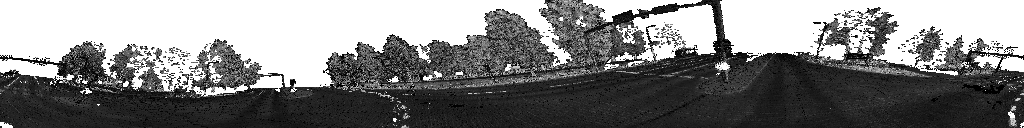gantry_sign_pole: (602, 0, 730, 67), (0, 55, 66, 83), (961, 47, 1023, 70), (260, 73, 285, 86)
light_pole: (204, 62, 218, 96), (815, 23, 826, 62), (74, 58, 87, 87), (646, 26, 655, 62), (995, 59, 1002, 74)
traffic_pole: (484, 65, 496, 83), (290, 79, 296, 94), (175, 85, 179, 98), (915, 59, 920, 66)
